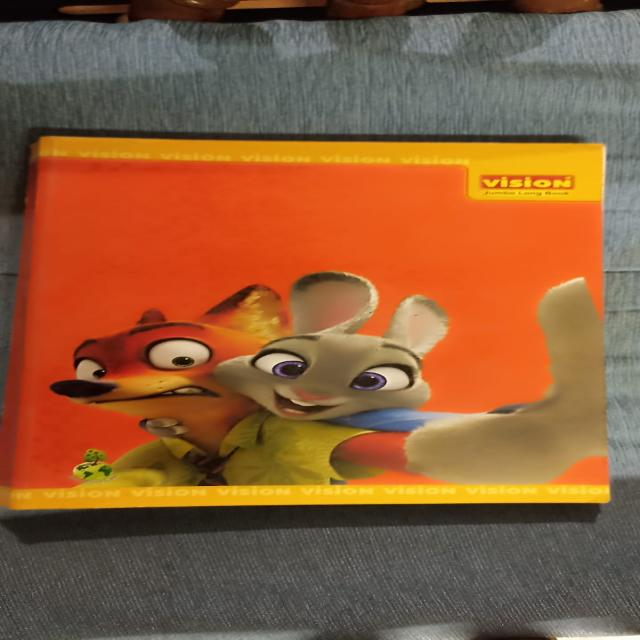book: (1, 125, 623, 514)
